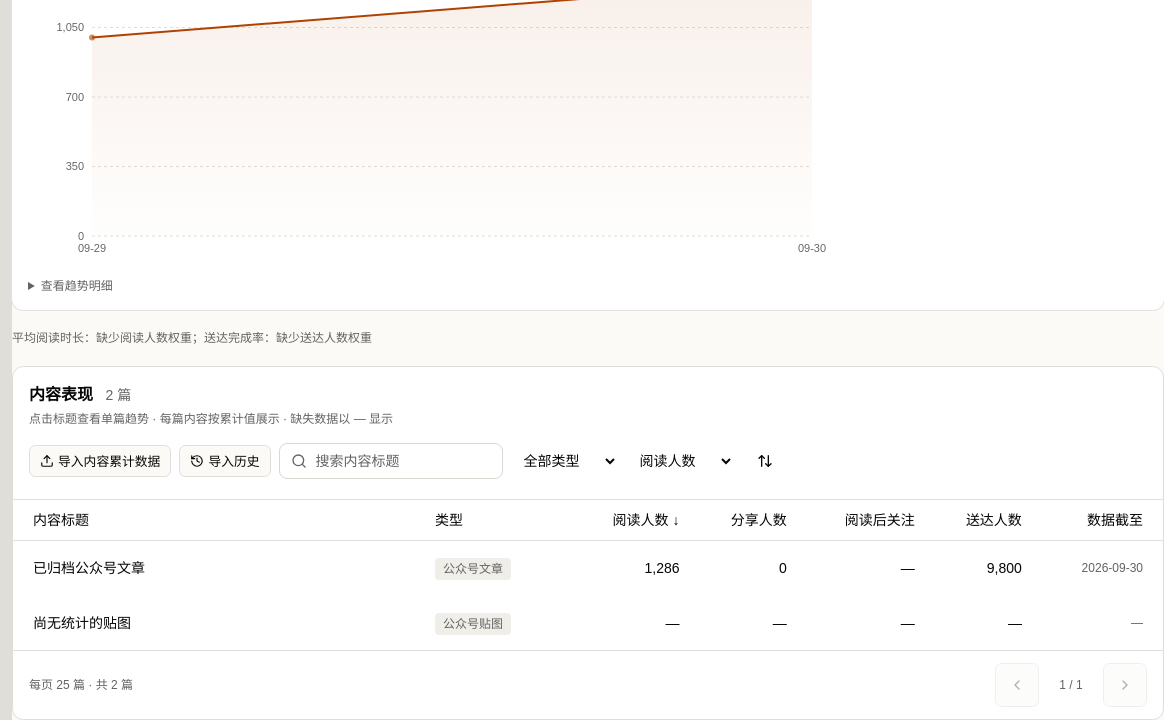
Test case: persisted WeChat analytics display › uses canonical content types for labels and filters
(page scrolled)
Expected: the button "已归档公众号文章" is shown, [33,557,145,580]
Expected: the text "公众号文章" is shown, [435,558,511,580]
Select "公众号贴图" in the dropdown named "内容类型" at [565, 461], box [511,443,619,479]
(page scrolled)
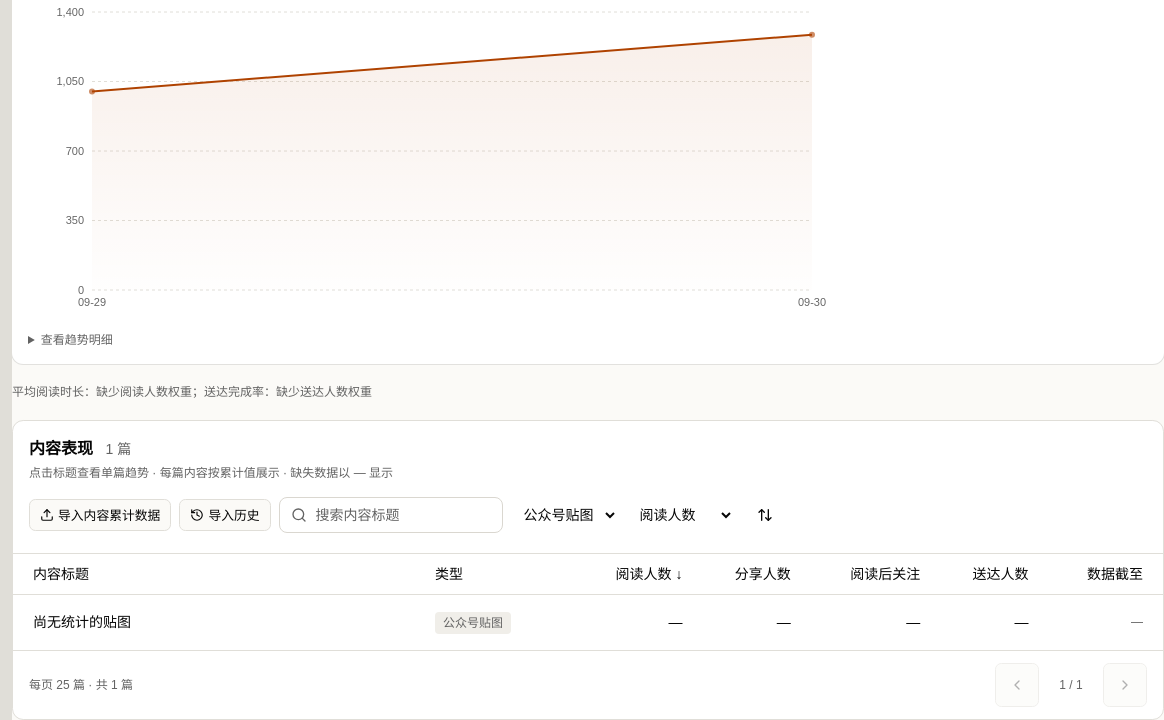
Expected: the button "尚无统计的贴图" is shown, [33,611,131,634]
Now the button "已归档公众号文章" is gone
